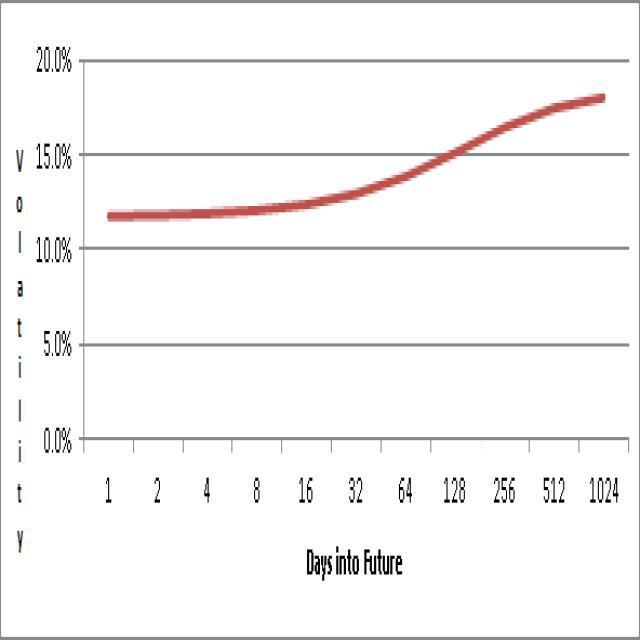axis: (71, 428, 636, 458), (72, 37, 92, 465)
line: (105, 86, 611, 228)
